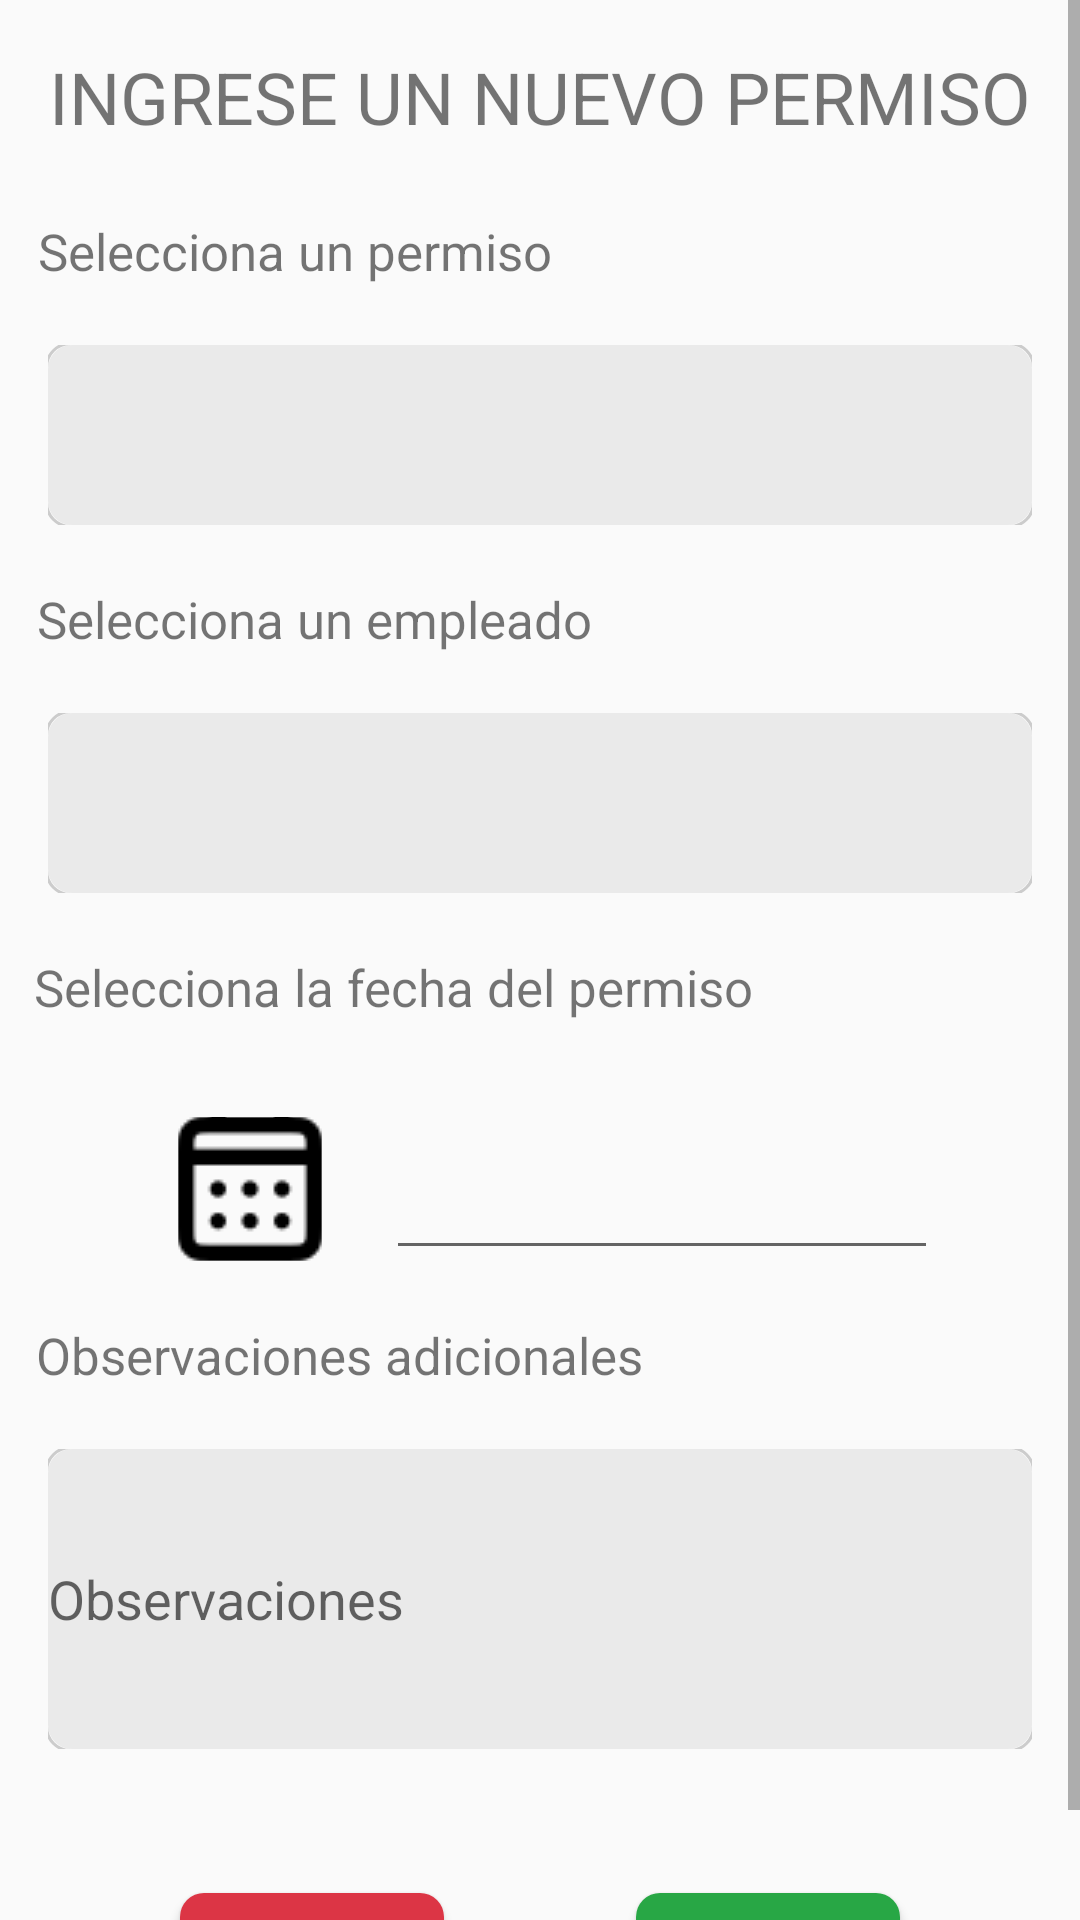

Locate icon controls on the screen. Image size 1080 × 1920, boxes as BBox(x1, y1, x2, y2).
calendar: BBox(178, 1117, 322, 1261)
